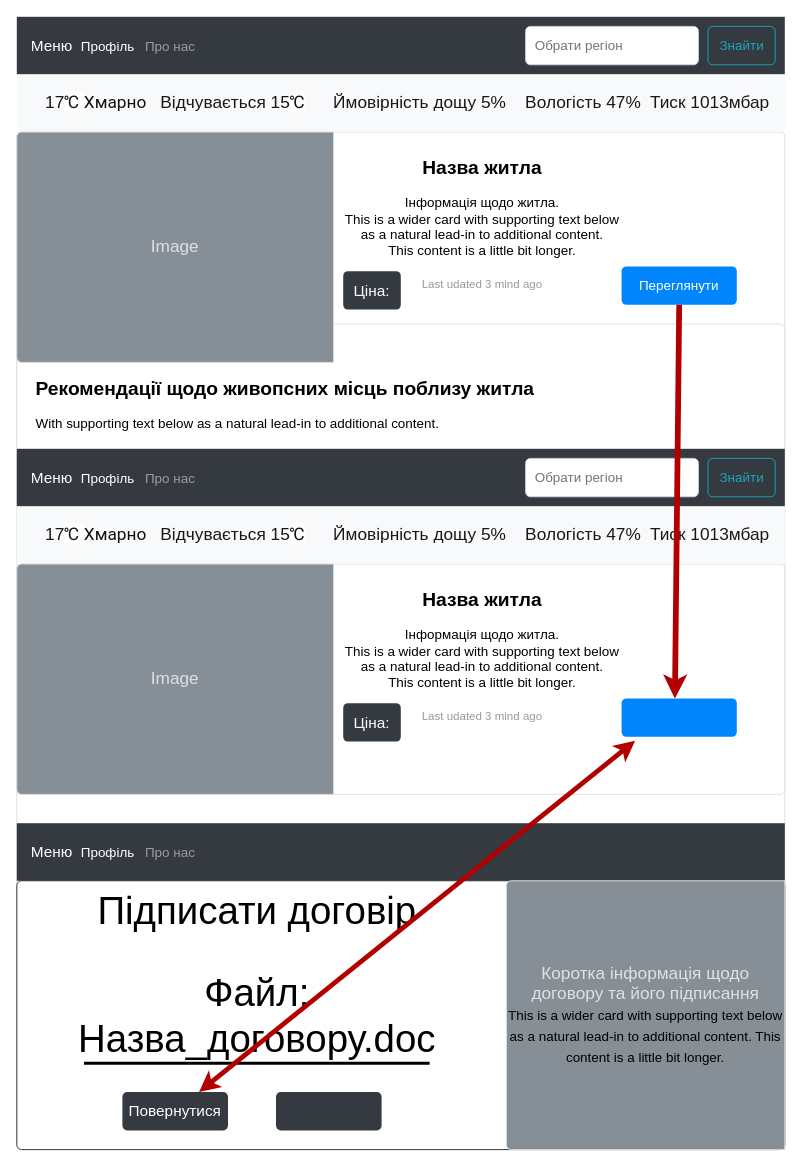
Some shapes in this 802 by 1166 pixel diagram are drawn without their labels. Each missing label, with the centre of its shape:
"Сплатити" goes at (328,1111).
"Створити замовлення" goes at (678,717).
